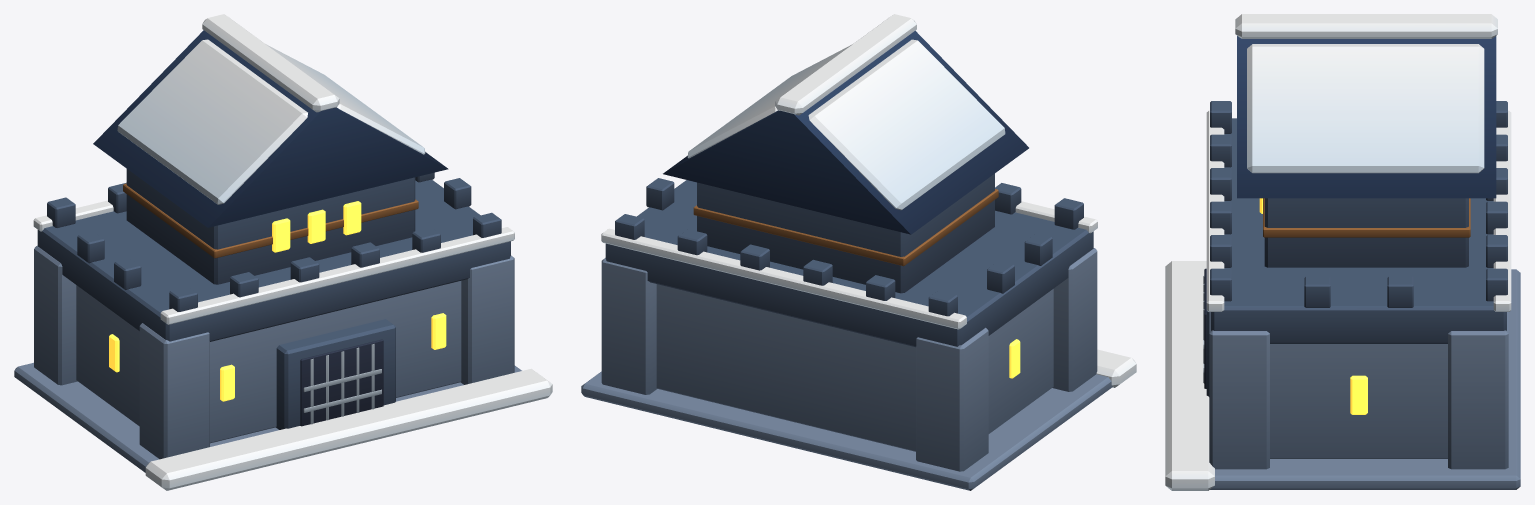
The model's file is env_castle_snow.glb.
3 views of the same model, side by side, from view 1: azimuth 30°, elevation 25°; view 2: azimuth 150°, elevation 25°; view 3: azimuth 270°, elevation 25° (orthographic). The views are drawn at different scales.
Visible parts, largest first — view 1: env_castle_snow; view 2: env_castle_snow; view 3: env_castle_snow.
Part boxes in pixels (bbox=[...]): env_castle_snow: bbox=[14, 14, 552, 490]; env_castle_snow: bbox=[581, 14, 1136, 490]; env_castle_snow: bbox=[1165, 14, 1520, 490].
Size of the model in its own units: 4.62 by 3.68 by 3.22.
1 material, 1 textured.
